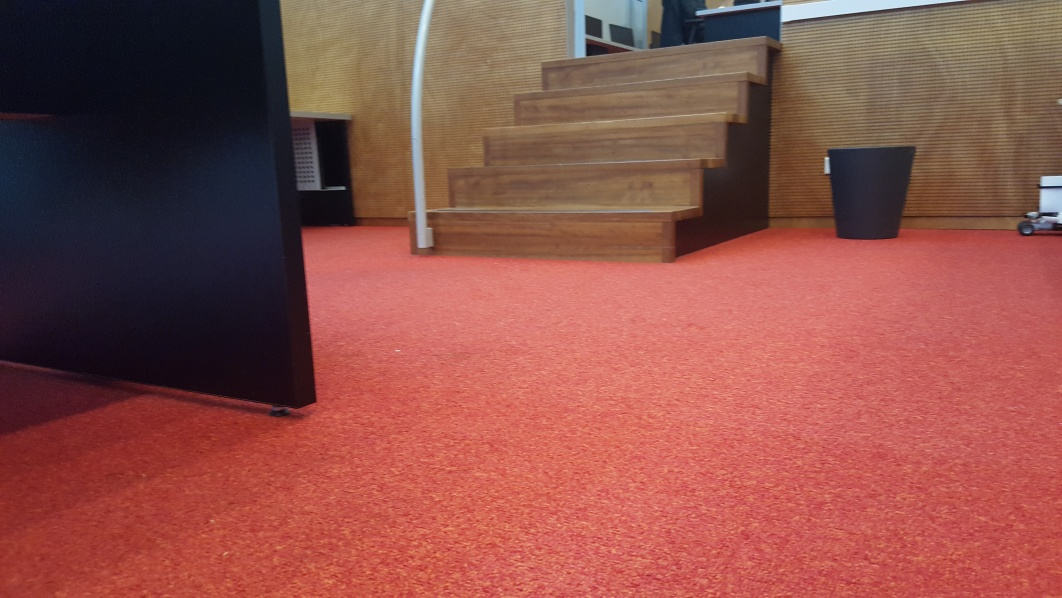car: (1019, 175, 1062, 234)
